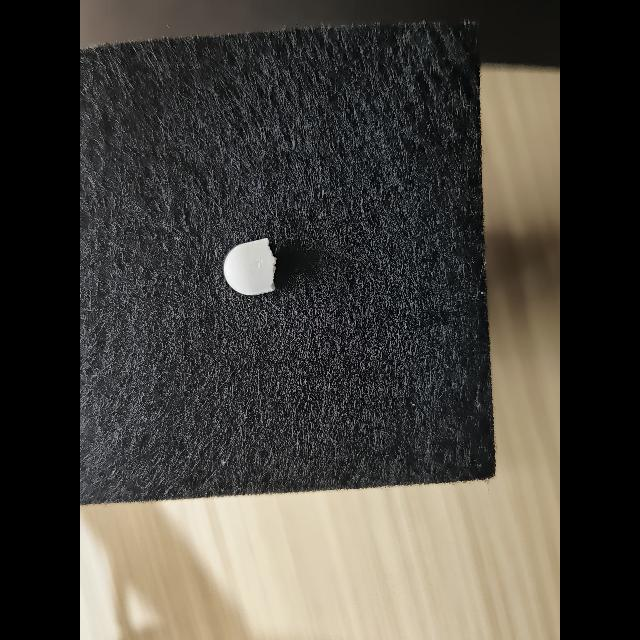Chipped Pill: (224, 238, 277, 295)
